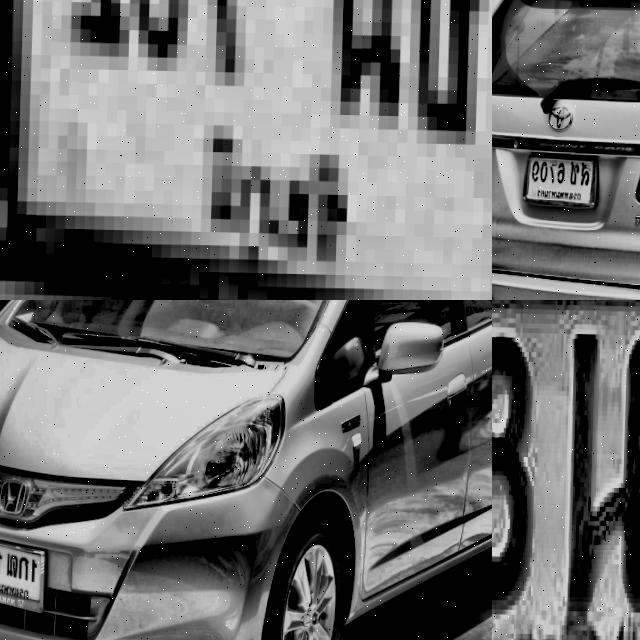license-plate: (8, 0, 492, 300), (492, 300, 640, 640), (0, 526, 60, 616), (522, 146, 605, 209)
